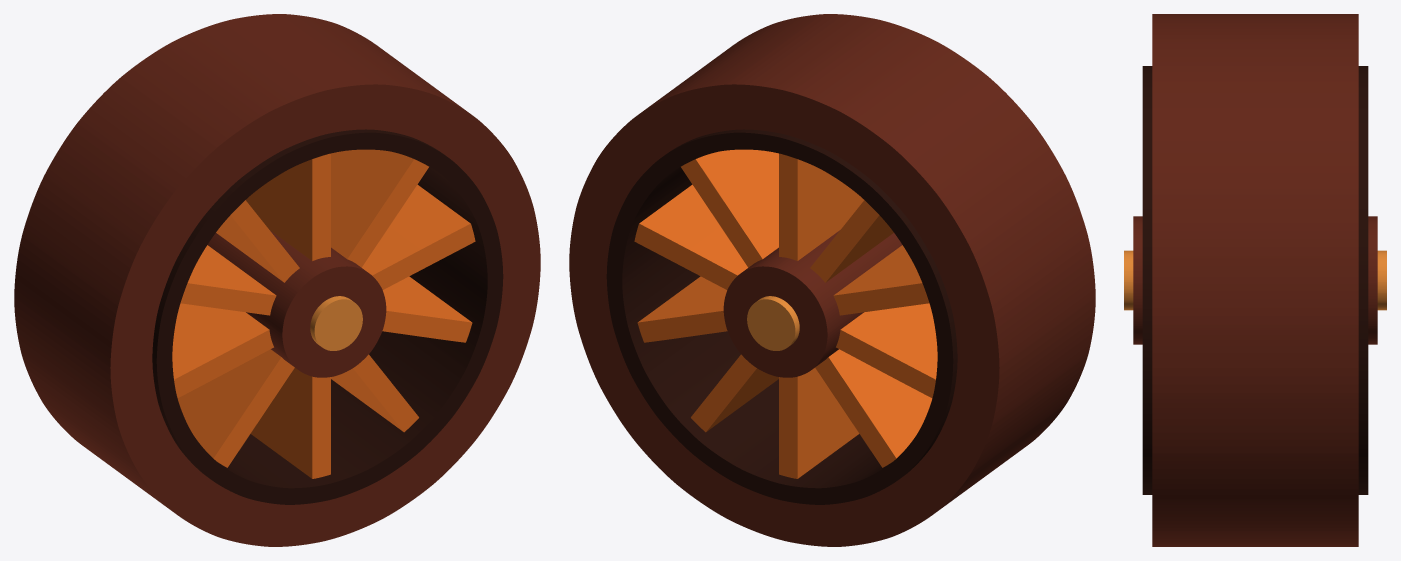
3 renders of one model, left to right at view 1: azimuth 30°, elevation 25°; view 2: azimuth 150°, elevation 25°; view 3: azimuth 270°, elevation 25°, orthographic. The views are drawn at different scales.
Parts seen in each view (by area): view 1: U+1F6DE_layer01_obj00, U+1F6DE_layer00_obj00, U+1F6DE_layer02_obj00, U+1F6DE_layer03_obj00, U+1F6DE_layer04_obj00; view 2: U+1F6DE_layer01_obj00, U+1F6DE_layer00_obj00, U+1F6DE_layer02_obj00, U+1F6DE_layer03_obj00, U+1F6DE_layer04_obj00; view 3: U+1F6DE_layer01_obj00, U+1F6DE_layer02_obj00, U+1F6DE_layer03_obj00, U+1F6DE_layer04_obj00.
Part boxes in pixels (box(x1,y1,x2,y2)): U+1F6DE_layer01_obj00: box(14, 14, 540, 546); U+1F6DE_layer00_obj00: box(172, 149, 475, 478); U+1F6DE_layer02_obj00: box(152, 129, 503, 504); U+1F6DE_layer03_obj00: box(207, 230, 386, 377); U+1F6DE_layer04_obj00: box(310, 296, 362, 350); U+1F6DE_layer01_obj00: box(569, 14, 1095, 546); U+1F6DE_layer00_obj00: box(634, 149, 937, 478); U+1F6DE_layer02_obj00: box(606, 129, 957, 504); U+1F6DE_layer03_obj00: box(723, 230, 902, 377); U+1F6DE_layer04_obj00: box(747, 296, 799, 350); U+1F6DE_layer01_obj00: box(1152, 14, 1358, 546); U+1F6DE_layer02_obj00: box(1142, 66, 1368, 494); U+1F6DE_layer03_obj00: box(1133, 216, 1377, 344); U+1F6DE_layer04_obj00: box(1124, 250, 1386, 310).
Size of the model in its own units: 0.5678 by 0.568 by 0.28.
